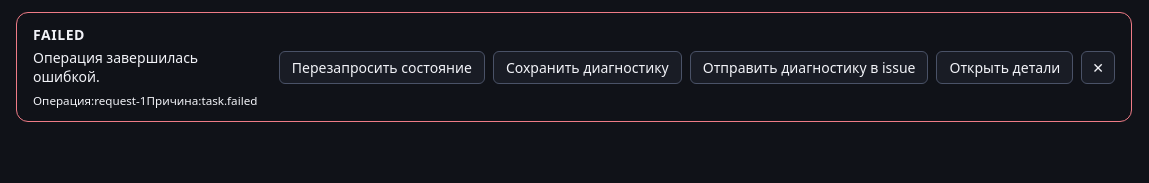
Test case: recovery contract › reports the outcome of a resync request
The width and height of the screenshot is (1149, 183).
Click the button "Перезапросить состояние": (382, 67) [279, 50, 485, 84]
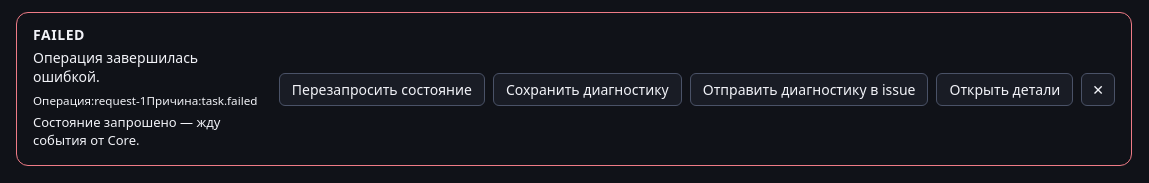
Check: the text "Состояние запрошено — жду события от Core." is shown, box [33, 113, 220, 149]
